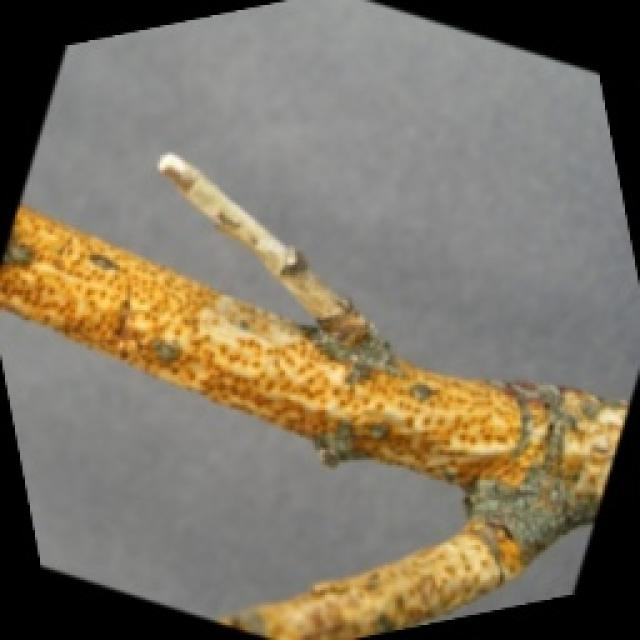Golden_canker: (0, 148, 638, 638)
